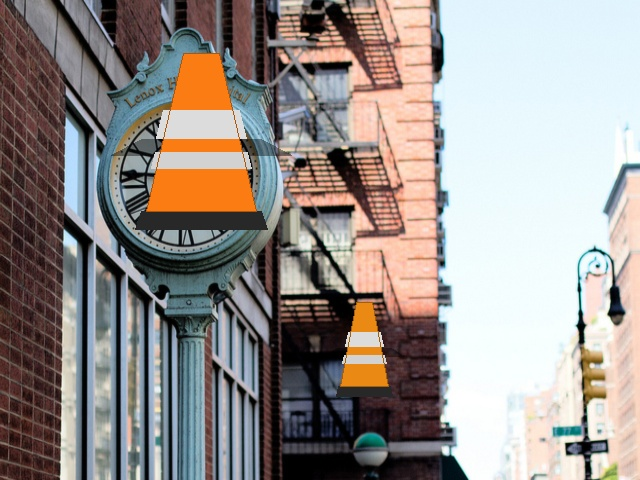traffic-cone: (135, 53, 267, 229), (336, 302, 392, 396)
